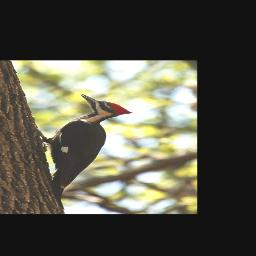Woodpecker: (26, 94, 134, 210)
